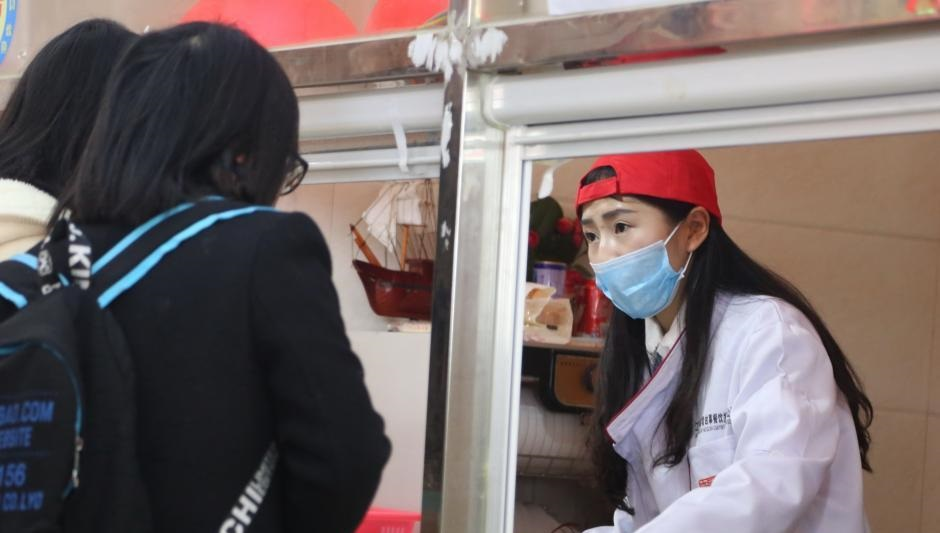face_mask: (583, 193, 686, 312)
